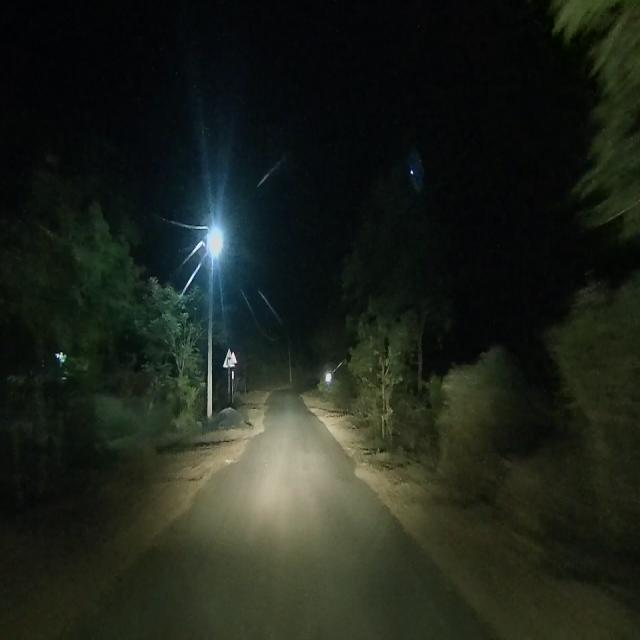right-hand-curve: (224, 348, 236, 370)
